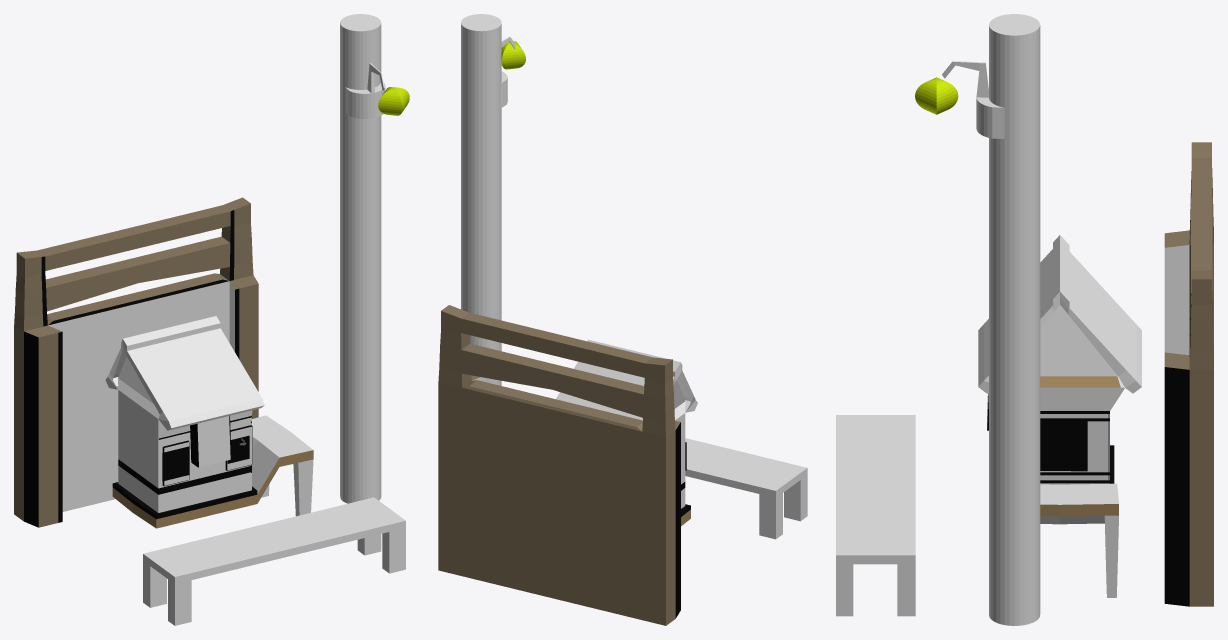
The model's file is stall.fbx.
3 renders of one model, left to right at view 1: azimuth 30°, elevation 25°; view 2: azimuth 150°, elevation 25°; view 3: azimuth 270°, elevation 25°, orthographic. The views are drawn at different scales.
Parts seen in each view (by area): view 1: wall, Stall, Cylinder, Chair, stallBanner, Cylinder.001; view 2: wall, Cylinder, Chair, Stall, Cylinder.001; view 3: Cylinder, Stall, wall, Chair, stallBanner.001, Cylinder.001.
Part boxes in pixels (x1=…): wall: x1=14, y1=197, x2=258, y2=527; Stall: x1=105, y1=316, x2=313, y2=528; Cylinder: x1=340, y1=14, x2=385, y2=503; Chair: x1=143, y1=497, x2=405, y2=625; stallBanner: x1=162, y1=446, x2=189, y2=481; Cylinder.001: x1=378, y1=87, x2=409, y2=115; wall: x1=438, y1=305, x2=680, y2=625; Cylinder: x1=461, y1=14, x2=515, y2=385; Chair: x1=685, y1=438, x2=807, y2=539; Stall: x1=556, y1=339, x2=697, y2=526; Cylinder.001: x1=501, y1=41, x2=525, y2=69; Cylinder: x1=942, y1=14, x2=1040, y2=625; Stall: x1=978, y1=235, x2=1141, y2=597; wall: x1=1164, y1=142, x2=1213, y2=606; Chair: x1=836, y1=415, x2=915, y2=616; stallBanner.001: x1=1040, y1=421, x2=1087, y2=471; Cylinder.001: x1=915, y1=77, x2=958, y2=114.
Size of the model in its own units: 182 by 298 by 168.
13 materials, 2 textured.
